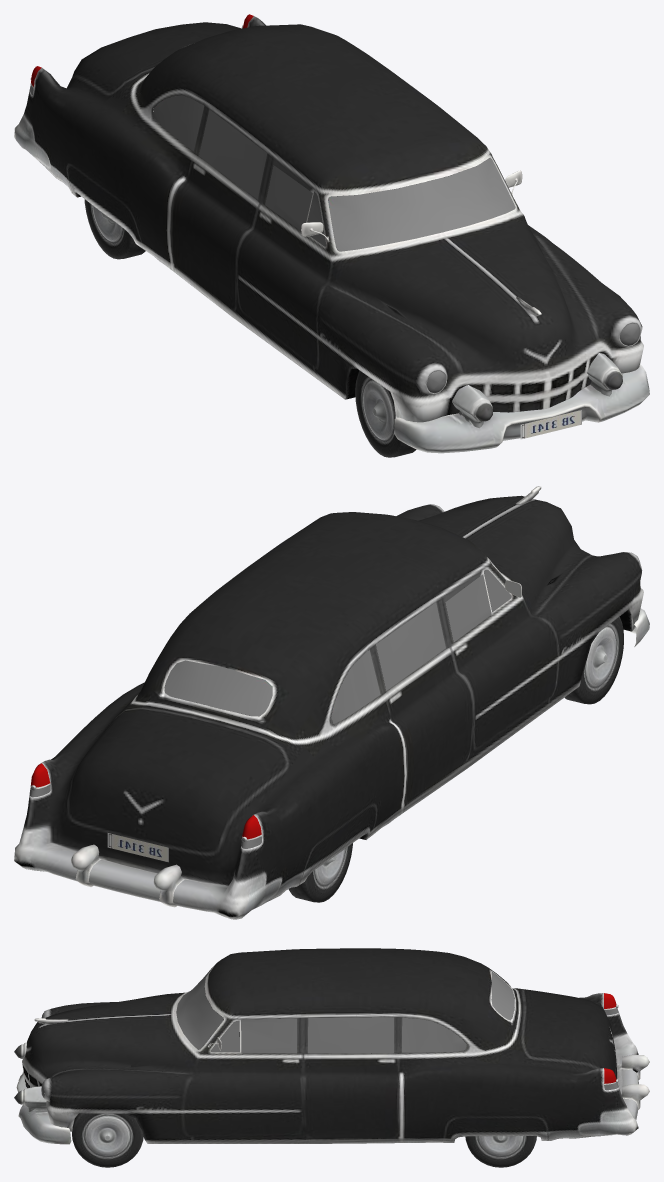
Rendered from veh_car50b.glb.
3 views of the same model, one above another, from view 1: azimuth 30°, elevation 25°; view 2: azimuth 150°, elevation 25°; view 3: azimuth 270°, elevation 25° (orthographic). The views are drawn at different scales.
Visible parts, largest first — view 1: Object_2, Object_4, Object_3; view 2: Object_2, Object_4, Object_3; view 3: Object_2, Object_4, Object_3.
Part boxes in pixels (<box>): Object_2: <box>14,16,649,453</box>; Object_4: <box>29,14,640,393</box>; Object_3: <box>84,105,416,457</box>; Object_2: <box>14,486,649,919</box>; Object_4: <box>29,560,511,848</box>; Object_3: <box>258,617,623,902</box>; Object_2: <box>14,948,649,1144</box>; Object_4: <box>41,967,618,1097</box>; Object_3: <box>72,993,536,1167</box>.
Bounding box in the file's own units: 195 × 169 × 596.
3 materials, 3 textured.
